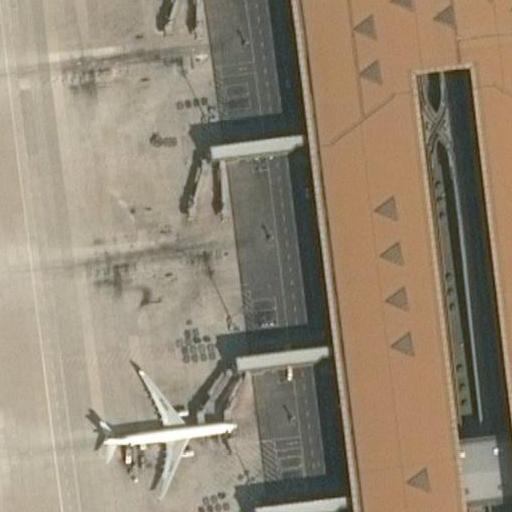Aircraft: (69, 366, 248, 501)
